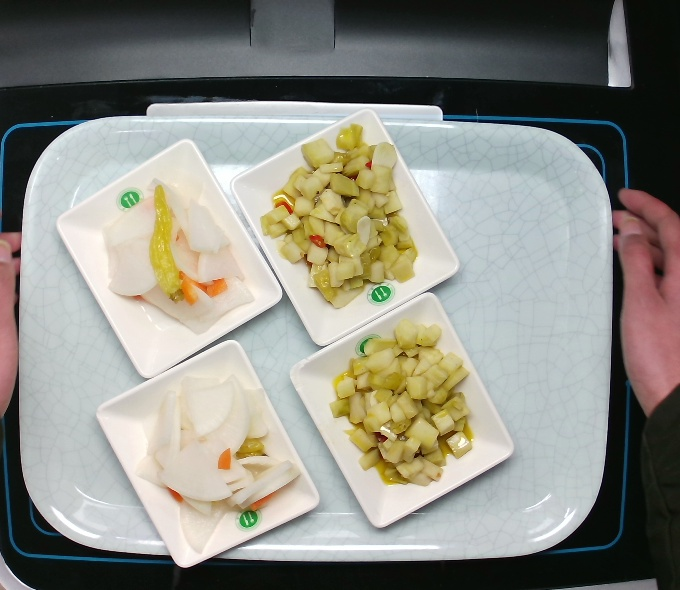wcq-LuLuoBo: (133, 363, 299, 548), (94, 159, 251, 335)
wcq-TangCuOu: (255, 116, 427, 311), (317, 310, 483, 495)
